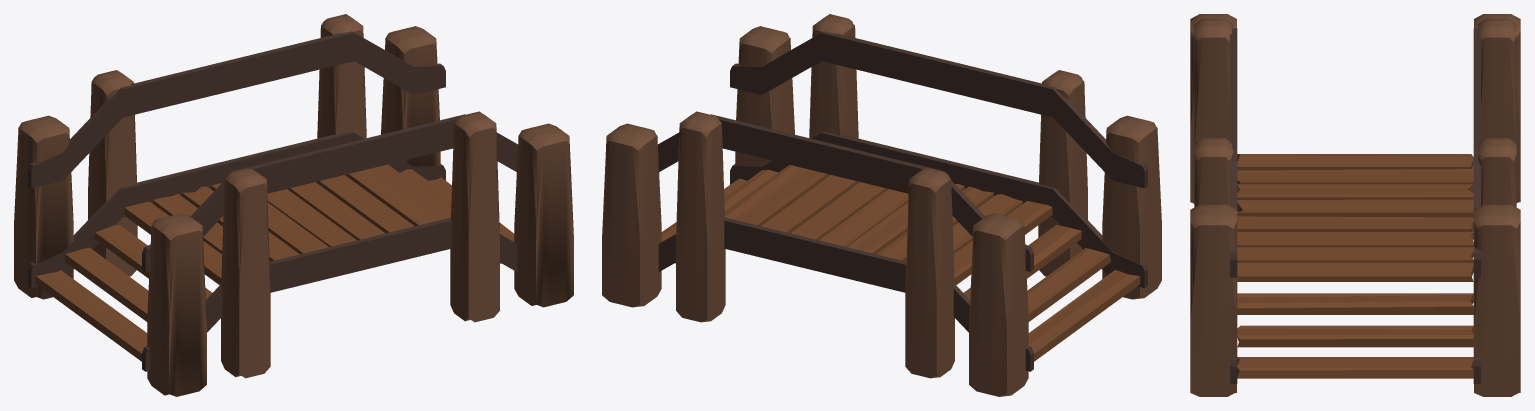
The model's file is bridge 1.fbx.
3 views of the same model, side by side, from view 1: azimuth 30°, elevation 25°; view 2: azimuth 150°, elevation 25°; view 3: azimuth 270°, elevation 25° (orthographic). The views are drawn at different scales.
Visible parts, largest first — view 1: node_id106, node_id104, node_id102; view 2: node_id106, node_id104, node_id102; view 3: node_id102, node_id106, node_id104.
Boxes of the visible parts, bbox=[...] form: node_id106: bbox=[14, 14, 573, 396]; node_id104: bbox=[28, 31, 517, 371]; node_id102: bbox=[35, 164, 514, 361]; node_id106: bbox=[602, 14, 1161, 396]; node_id104: bbox=[658, 31, 1147, 371]; node_id102: bbox=[661, 165, 1140, 361]; node_id102: bbox=[1237, 154, 1473, 378]; node_id106: bbox=[1190, 14, 1520, 396]; node_id104: bbox=[1230, 28, 1480, 383].
Bounding box in the file's own units: 0.512 × 0.231 × 0.3314.
